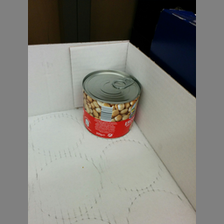nuts: (81, 69, 143, 140)
